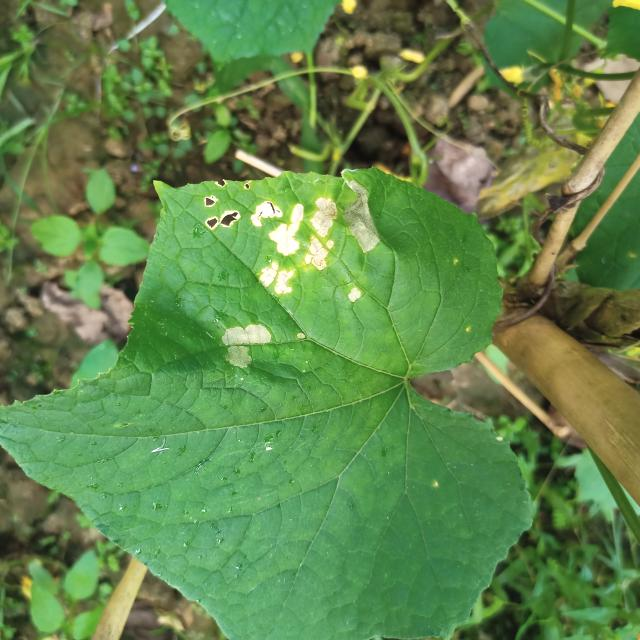disease_cucumber: (186, 177, 388, 305), (217, 316, 274, 374)
